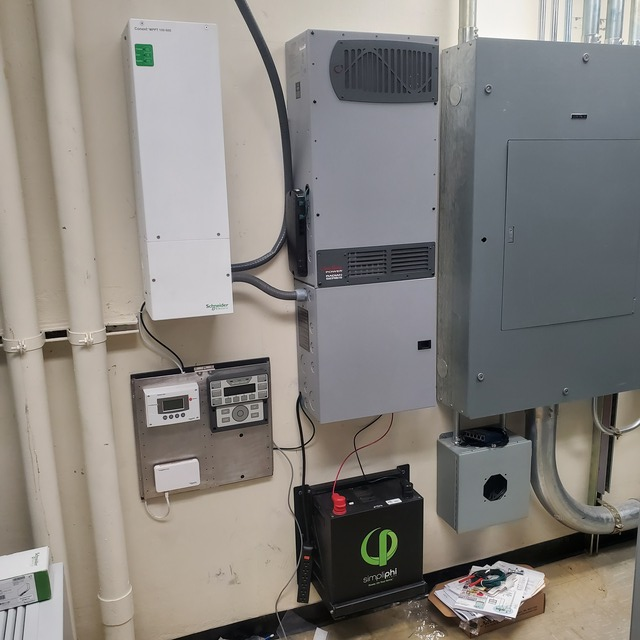battery: (310, 471, 425, 619)
charge_controller: (122, 19, 237, 321)
inverter: (284, 29, 441, 424)
